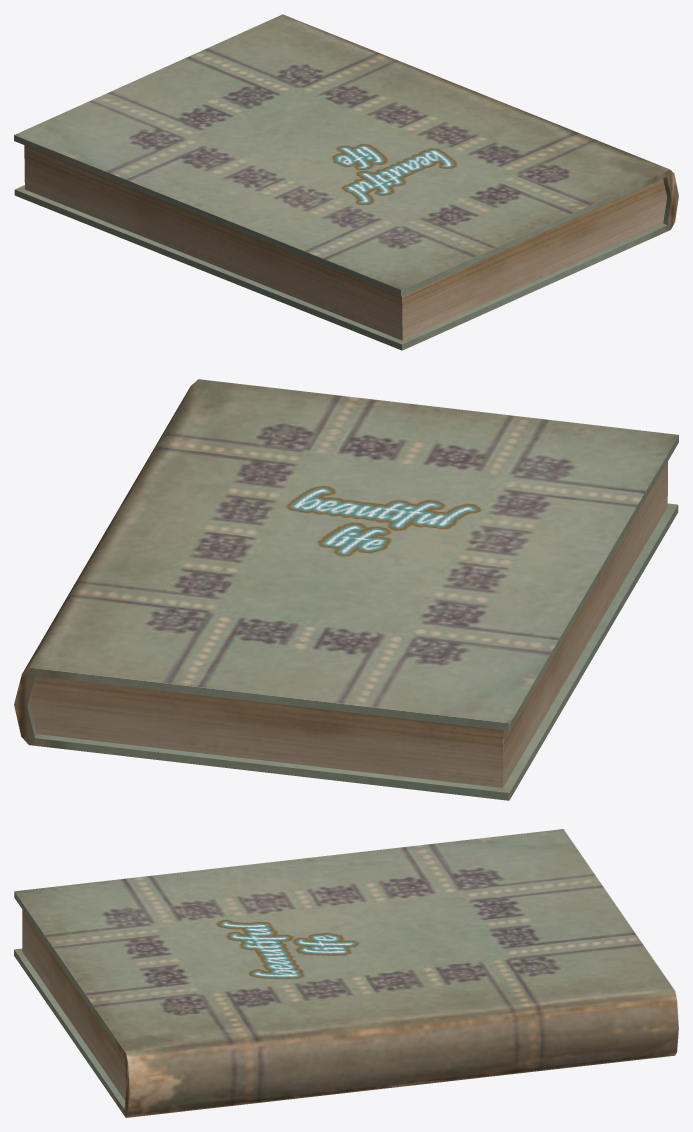
File: album2.glb
3 views of the same model, one above another, from view 1: azimuth 30°, elevation 25°; view 2: azimuth 150°, elevation 25°; view 3: azimuth 270°, elevation 25° (orthographic). The views are drawn at different scales.
Visible parts, largest first — view 1: 443; view 2: 443; view 3: 443.
Part boxes in pixels (x1,y1,x2,y2): 443: (14, 14, 678, 350); 443: (14, 379, 678, 800); 443: (14, 829, 678, 1117).
Size of the model in its own units: 0.3254 by 0.0459 by 0.3849.
1 material, 1 textured.
